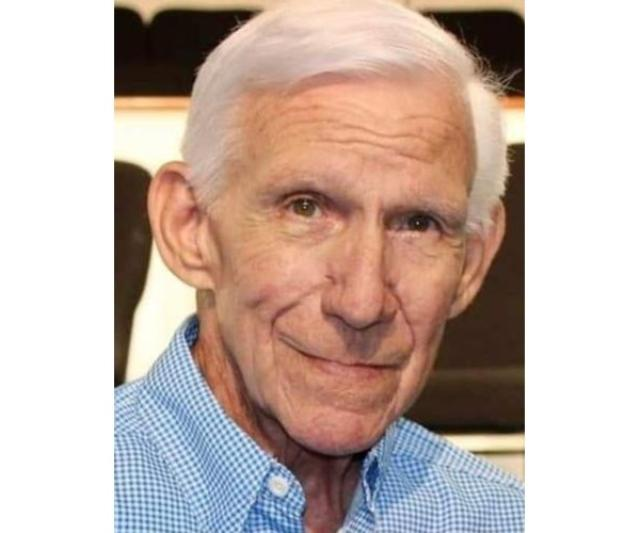crows_feet: (440, 217, 464, 257)
forehead: (403, 109, 443, 171), (340, 117, 398, 159), (284, 97, 330, 133)
gummy_smile: (394, 292, 421, 338), (266, 292, 300, 327)
